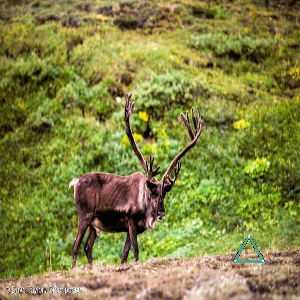triangle: (231, 234, 267, 266)
